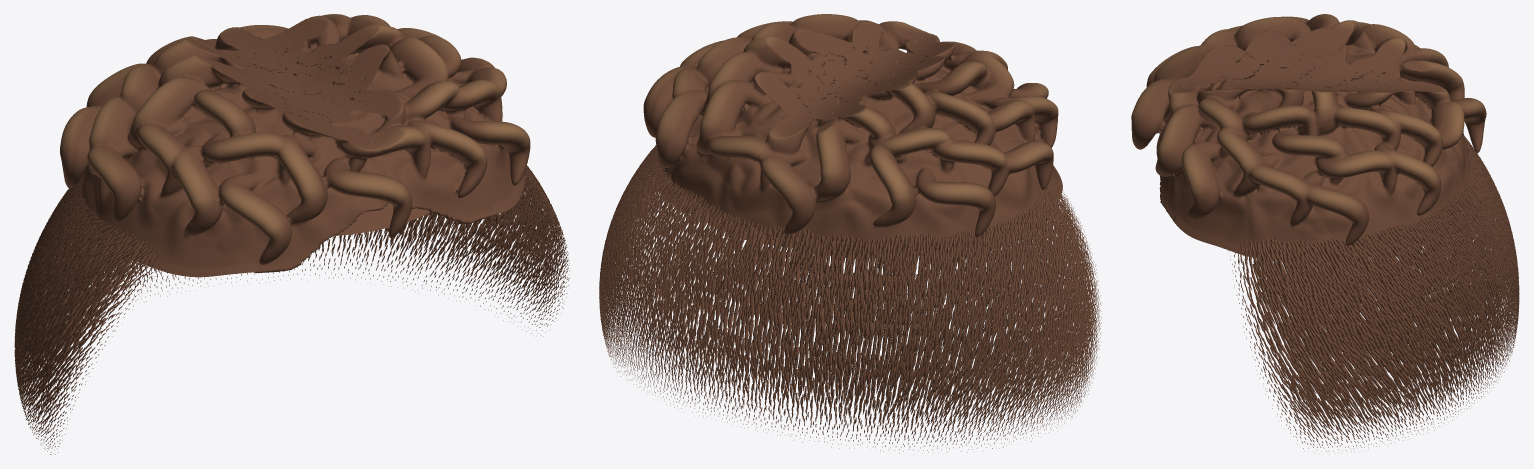
The model's file is Masculine-curly-top-cowboy254-hair-ombre.glb.
3 views of the same model, side by side, from view 1: azimuth 30°, elevation 25°; view 2: azimuth 150°, elevation 25°; view 3: azimuth 270°, elevation 25° (orthographic). The views are drawn at different scales.
Parts seen in each view (by area): view 1: 226 hair / Hair252 / sculpted curl groups, 226 hair / Hair254 / rooted short groom; view 2: 226 hair / Hair254 / rooted short groom, 226 hair / Hair252 / sculpted curl groups; view 3: 226 hair / Hair252 / sculpted curl groups, 226 hair / Hair254 / rooted short groom.
Part boxes in pixels (x1,y1,x2,y2): 226 hair / Hair252 / sculpted curl groups: [60, 14, 530, 277]; 226 hair / Hair254 / rooted short groom: [14, 165, 569, 454]; 226 hair / Hair254 / rooted short groom: [599, 145, 1101, 453]; 226 hair / Hair252 / sculpted curl groups: [643, 14, 1062, 258]; 226 hair / Hair252 / sculpted curl groups: [1131, 14, 1486, 260]; 226 hair / Hair254 / rooted short groom: [1156, 135, 1519, 454].
Size of the model in its own units: 0.9716 by 0.6382 by 0.7501.
